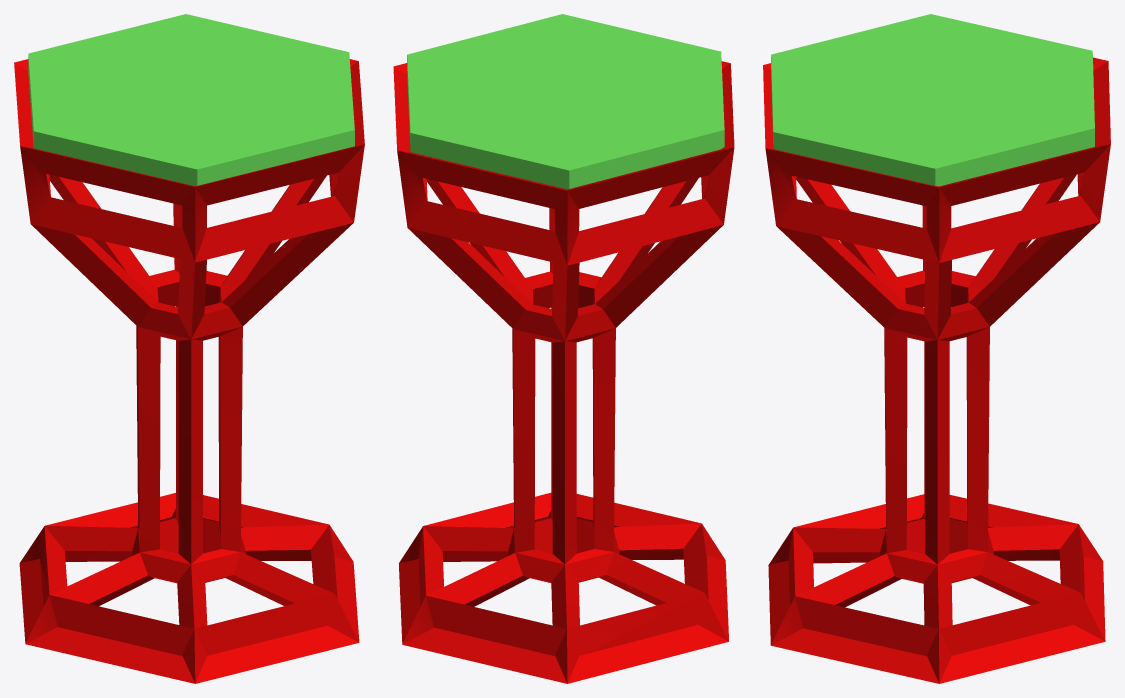
File: chair.glb
The picture shows the model from 3 angles, left to right: view 1: azimuth 30°, elevation 25°; view 2: azimuth 150°, elevation 25°; view 3: azimuth 270°, elevation 25°; orthographic projection.
Parts seen in each view (by area): view 1: cojin.026; view 2: cojin.026; view 3: cojin.026.
Part boxes in pixels (x1,y1,x2,y2): cojin.026: (14,14,364,683); cojin.026: (393,14,734,683); cojin.026: (763,14,1110,683).
Bounding box in the file's own units: 0.5618 × 0.8066 × 0.4967.
